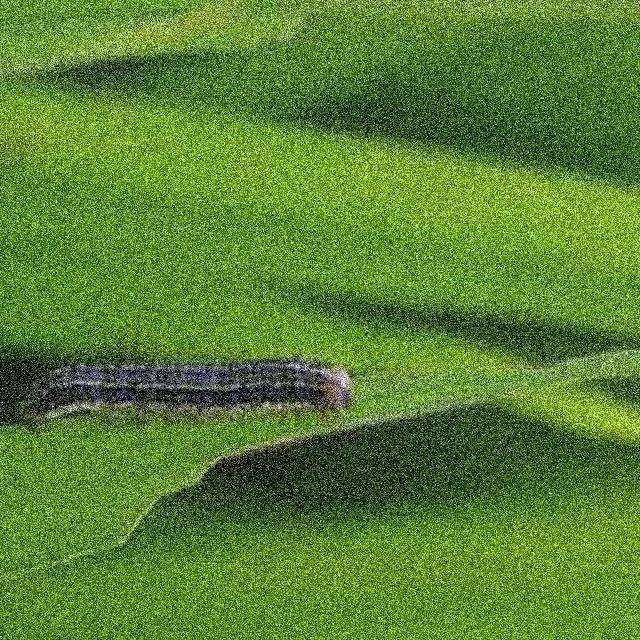worm: (27, 358, 352, 419)
